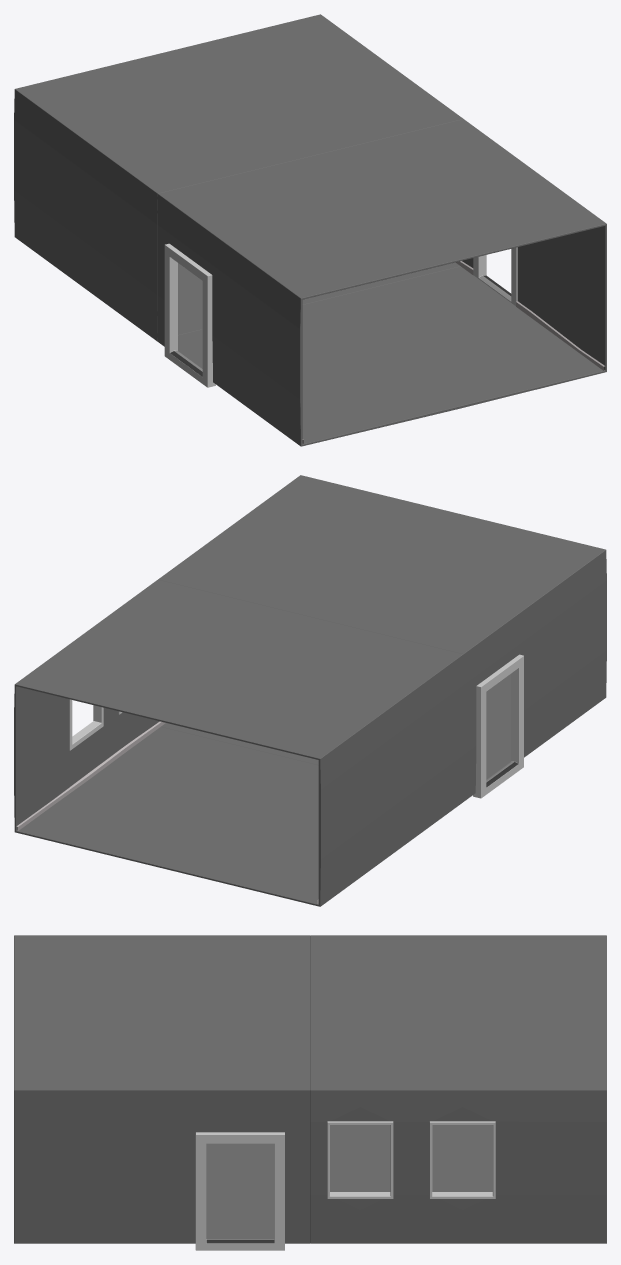
File: mdl_room.fbx
3 views of the same model, one above another, from view 1: azimuth 30°, elevation 25°; view 2: azimuth 150°, elevation 25°; view 3: azimuth 270°, elevation 25° (orthographic). The views are drawn at different scales.
Visible parts, largest first — view 1: Room_00, Room_01, Room.001, Room.003; view 2: Room_01, Room_00, Room.001, Room.004; view 3: Room_01, Room_00, Room.001.
Boxes of the visible parts, bbox=[...] form: Room_00: bbox=[157, 119, 606, 446]; Room_01: bbox=[14, 14, 463, 341]; Room.001: bbox=[164, 243, 517, 387]; Room.003: bbox=[302, 261, 604, 443]; Room_01: bbox=[14, 580, 463, 906]; Room_00: bbox=[158, 475, 606, 801]; Room.001: bbox=[473, 654, 523, 798]; Room.004: bbox=[16, 722, 318, 903]; Room_01: bbox=[310, 935, 606, 1243]; Room_00: bbox=[14, 935, 310, 1243]; Room.001: bbox=[195, 1132, 284, 1250].
Size of the model in its own units: 512 by 235 by 800.
